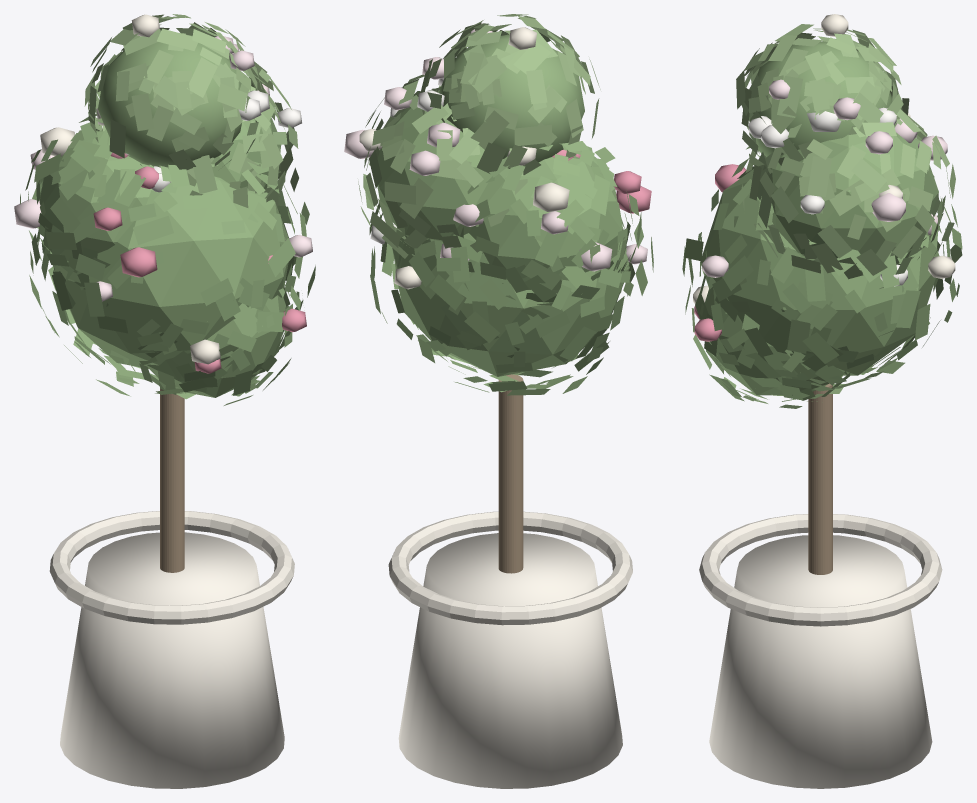
File: topiary.glb
The picture shows the model from 3 angles, left to right: view 1: azimuth 30°, elevation 25°; view 2: azimuth 150°, elevation 25°; view 3: azimuth 270°, elevation 25°; orthographic projection.
Visible parts, largest first — view 1: Cone, Icosphere, leaves, leaves.004, Torus, leaves.002, Icosphere.004, leaves.003, leaves.001, Cylinder, Icosphere.002, Icosphere.003 (+6 smaller); view 2: Cone, leaves, leaves.004, Icosphere, Torus, leaves.002, leaves.001, Icosphere.002, Icosphere.004, Icosphere.001, Cylinder, Icosphere.006 (+4 smaller); view 3: Cone, leaves, leaves.001, Icosphere, leaves.004, Torus, Icosphere.001, Cylinder, leaves.003, Icosphere.004, Icosphere.003, Icosphere.025 (+5 smaller).
Part boxes in pixels (box(x1,y1,x2,y2)): Cone: box(60, 532, 284, 788); Icosphere: box(65, 176, 288, 368); leaves: box(29, 161, 315, 396); leaves.004: box(84, 14, 262, 173); Torus: box(49, 511, 294, 624); leaves.002: box(20, 114, 171, 290); Icosphere.004: box(98, 34, 242, 167); leaves.003: box(130, 283, 303, 405); leaves.001: box(99, 61, 298, 207); Cylinder: box(160, 389, 184, 572); Icosphere.002: box(39, 130, 154, 262); Icosphere.003: box(145, 295, 285, 397); Cone: box(398, 533, 622, 788); leaves: box(369, 156, 653, 395); leaves.004: box(420, 14, 600, 174); Icosphere: box(392, 202, 629, 376); Torus: box(388, 511, 632, 625); leaves.002: box(460, 141, 641, 319); leaves.001: box(358, 74, 527, 258); Icosphere.002: box(469, 156, 622, 293); Icosphere.004: box(438, 34, 584, 162); Icosphere.001: box(377, 107, 509, 241); Cylinder: box(498, 374, 523, 573); Icosphere.006: box(533, 182, 569, 212); Cone: box(709, 535, 932, 788); leaves: box(682, 146, 962, 402); leaves.001: box(741, 109, 955, 288); Icosphere: box(700, 169, 939, 375); leaves.004: box(736, 24, 909, 173); Torus: box(699, 514, 942, 626); Icosphere.001: box(769, 132, 938, 263); Cylinder: box(808, 383, 832, 574); leaves.003: box(685, 275, 850, 408); Icosphere.004: box(749, 41, 892, 156); Icosphere.003: box(705, 287, 818, 395); Icosphere.025: box(871, 193, 905, 221).
Bounding box in the file's own units: 0.5282 × 1.42 × 0.5021.
